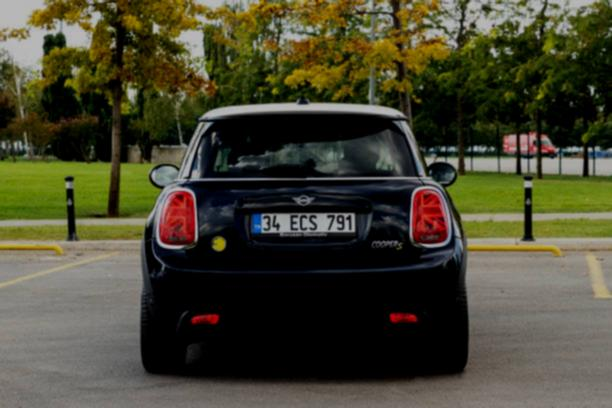mini: (284, 189, 329, 213)
